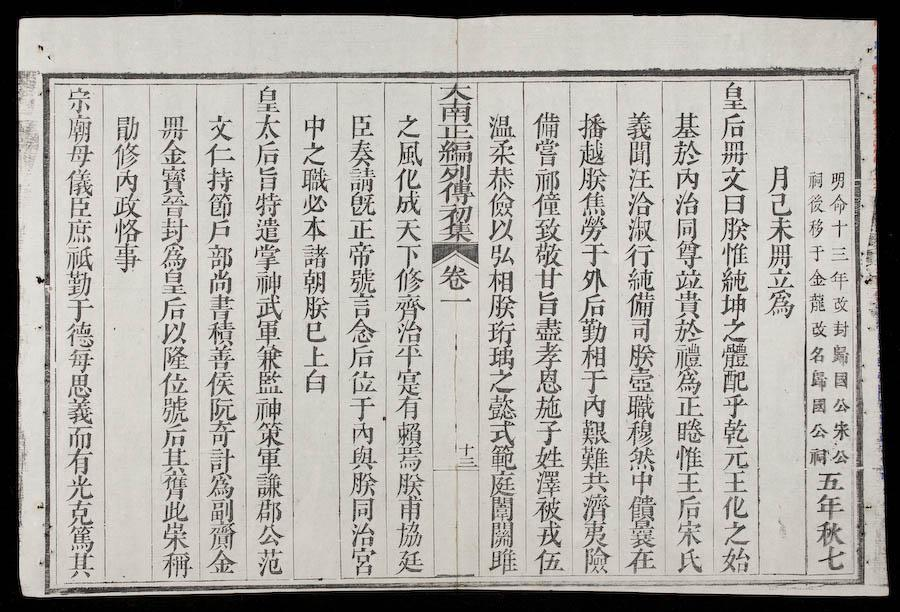c: (670, 108, 704, 139), (437, 263, 473, 292), (158, 469, 191, 500), (623, 108, 655, 139), (718, 79, 749, 111), (576, 109, 609, 139), (110, 243, 143, 273), (158, 395, 192, 424), (391, 294, 426, 322), (531, 108, 562, 139), (764, 289, 796, 319), (159, 521, 192, 550), (625, 520, 659, 548), (62, 167, 96, 195), (718, 546, 753, 573), (158, 550, 193, 577), (254, 546, 285, 576), (485, 110, 517, 139), (347, 546, 379, 575), (64, 550, 97, 578), (485, 393, 518, 421), (579, 492, 612, 520), (156, 112, 189, 140), (626, 493, 659, 521), (205, 521, 238, 549), (62, 85, 95, 113), (157, 166, 190, 194), (673, 416, 707, 443), (672, 443, 706, 470), (813, 519, 847, 546), (63, 320, 97, 347), (435, 140, 473, 164), (205, 112, 235, 142), (252, 84, 283, 113), (345, 139, 377, 167), (580, 546, 612, 574), (63, 499, 96, 526), (63, 473, 96, 500), (486, 293, 519, 320), (671, 342, 704, 369), (624, 419, 657, 446), (578, 418, 611, 445), (63, 397, 96, 424), (670, 139, 703, 166), (252, 471, 285, 498), (531, 496, 565, 522), (577, 445, 611, 471), (204, 370, 238, 396), (298, 166, 332, 192), (532, 138, 562, 167), (672, 290, 703, 318), (393, 368, 424, 396), (672, 239, 703, 267), (394, 520, 425, 548), (486, 191, 517, 219), (64, 114, 95, 142), (719, 417, 750, 445), (251, 113, 283, 140), (110, 142, 142, 169), (532, 469, 564, 496), (250, 243, 282, 270), (719, 342, 751, 369), (298, 242, 330, 269), (579, 520, 611, 547), (392, 267, 425, 293), (62, 271, 95, 297), (624, 393, 657, 419), (813, 492, 846, 518), (204, 472, 237, 498), (815, 545, 848, 571), (204, 446, 237, 472), (673, 547, 706, 573), (672, 520, 705, 546), (252, 395, 285, 421), (111, 113, 141, 141), (394, 139, 424, 167), (720, 519, 751, 546), (718, 165, 749, 192), (577, 139, 608, 166), (204, 243, 235, 270), (485, 165, 516, 192), (625, 291, 656, 318), (346, 267, 377, 294), (158, 242, 189, 269), (437, 182, 475, 204), (672, 368, 704, 394), (347, 470, 379, 496), (625, 367, 657, 393), (345, 318, 377, 344), (63, 245, 95, 271), (532, 394, 564, 420), (157, 269, 189, 295), (205, 420, 237, 446), (158, 370, 190, 396), (673, 494, 705, 520), (157, 140, 189, 166), (533, 521, 565, 547), (64, 525, 97, 550), (62, 448, 95, 473), (671, 318, 704, 343), (253, 421, 286, 446), (204, 320, 237, 345), (110, 218, 143, 243), (532, 444, 565, 469), (532, 317, 565, 342), (532, 548, 565, 573), (487, 548, 520, 573), (110, 193, 143, 218), (157, 217, 190, 242), (435, 81, 474, 102), (202, 142, 236, 166), (436, 100, 473, 122), (347, 111, 376, 139), (719, 112, 749, 139), (205, 294, 236, 320), (347, 444, 378, 470), (252, 217, 283, 243), (253, 344, 284, 370), (533, 368, 564, 394), (578, 216, 609, 242), (719, 241, 750, 267), (486, 139, 517, 165), (204, 166, 235, 192), (533, 419, 564, 445), (347, 369, 378, 395), (487, 444, 518, 470), (624, 190, 655, 216), (624, 216, 655, 242), (719, 215, 750, 241), (626, 342, 657, 368), (345, 241, 376, 267), (64, 371, 95, 397), (252, 191, 283, 217), (157, 296, 188, 322), (719, 493, 750, 519), (64, 218, 95, 244), (718, 139, 749, 165), (63, 424, 95, 449), (626, 446, 658, 471), (252, 270, 284, 295), (345, 167, 377, 192), (485, 320, 517, 345), (623, 242, 655, 267), (532, 342, 564, 367), (577, 166, 609, 191), (532, 242, 564, 267), (392, 218, 424, 243), (531, 192, 563, 217), (205, 497, 237, 522), (206, 549, 238, 574), (719, 445, 751, 470), (253, 446, 285, 471), (252, 294, 284, 319), (205, 345, 237, 370), (672, 394, 705, 418), (252, 498, 285, 522), (625, 548, 658, 572), (533, 290, 562, 317), (301, 368, 330, 395), (765, 242, 795, 268), (301, 294, 331, 320), (765, 216, 795, 242), (205, 192, 235, 218), (435, 163, 474, 183), (394, 420, 424, 446), (299, 215, 329, 241), (347, 521, 377, 547), (158, 193, 189, 218), (64, 347, 95, 372), (346, 344, 377, 369), (718, 292, 749, 317), (578, 318, 609, 343), (394, 471, 425, 496), (253, 370, 284, 395), (532, 217, 563, 242), (392, 167, 423, 192), (346, 192, 377, 217), (719, 267, 750, 292), (393, 548, 424, 573), (393, 445, 424, 470), (159, 345, 190, 370), (206, 396, 237, 421), (345, 294, 376, 319), (159, 446, 191, 470), (392, 192, 424, 216), (64, 142, 96, 166), (486, 420, 518, 444), (485, 345, 517, 369), (437, 203, 475, 223), (813, 468, 846, 491), (300, 112, 328, 139), (394, 112, 422, 139), (488, 520, 516, 547), (299, 140, 328, 166), (720, 317, 749, 343), (766, 163, 792, 192), (672, 190, 701, 216), (579, 293, 609, 318), (393, 395, 423, 420), (579, 267, 609, 292), (253, 318, 283, 343), (252, 140, 282, 165), (486, 268, 516, 293), (299, 269, 329, 294), (487, 471, 517, 496), (347, 395, 377, 420), (577, 191, 608, 215), (486, 369, 517, 393), (345, 217, 376, 241), (625, 267, 656, 291), (64, 195, 95, 219), (158, 321, 189, 345), (578, 369, 609, 393), (579, 242, 610, 266), (436, 121, 473, 141), (158, 424, 190, 447), (63, 297, 95, 320), (253, 522, 285, 545), (673, 470, 705, 493), (579, 470, 611, 493), (626, 140, 654, 166), (205, 269, 234, 294), (625, 166, 654, 191), (205, 218, 234, 243), (720, 469, 750, 493), (720, 369, 750, 393), (532, 168, 562, 192), (579, 344, 609, 368), (111, 169, 141, 193), (393, 344, 424, 367), (393, 321, 424, 344), (672, 268, 704, 290), (253, 166, 281, 191), (672, 166, 701, 190), (720, 393, 749, 417), (580, 394, 609, 418), (395, 496, 424, 520), (301, 344, 330, 368), (487, 243, 516, 267), (348, 497, 377, 521), (160, 498, 190, 521), (533, 267, 563, 290), (299, 192, 329, 215), (393, 243, 423, 266), (437, 294, 473, 313), (627, 317, 654, 342), (487, 218, 515, 242), (348, 420, 376, 444), (627, 469, 656, 492), (719, 192, 748, 215), (673, 216, 700, 240), (767, 192, 794, 216), (488, 496, 515, 520), (439, 223, 474, 241), (765, 268, 794, 289), (303, 320, 329, 343), (807, 290, 828, 314), (829, 268, 851, 290), (809, 367, 830, 390), (830, 342, 851, 365), (827, 193, 849, 214), (828, 242, 850, 263), (807, 444, 828, 466), (831, 418, 852, 440), (828, 169, 848, 191), (829, 217, 849, 239), (806, 192, 826, 214), (807, 267, 827, 288), (806, 242, 826, 263), (830, 293, 851, 313), (806, 168, 825, 190), (806, 216, 825, 238), (831, 445, 851, 465), (809, 394, 829, 414), (809, 420, 830, 439), (832, 368, 851, 389), (808, 343, 827, 363), (831, 318, 850, 337), (809, 319, 829, 337), (831, 395, 851, 413), (456, 440, 476, 457), (456, 454, 476, 468)
